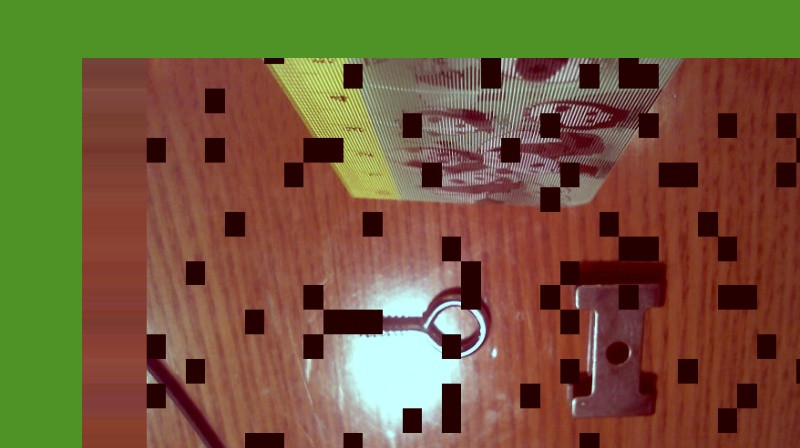O001: (349, 288, 494, 359)
O002: (566, 258, 670, 421)
